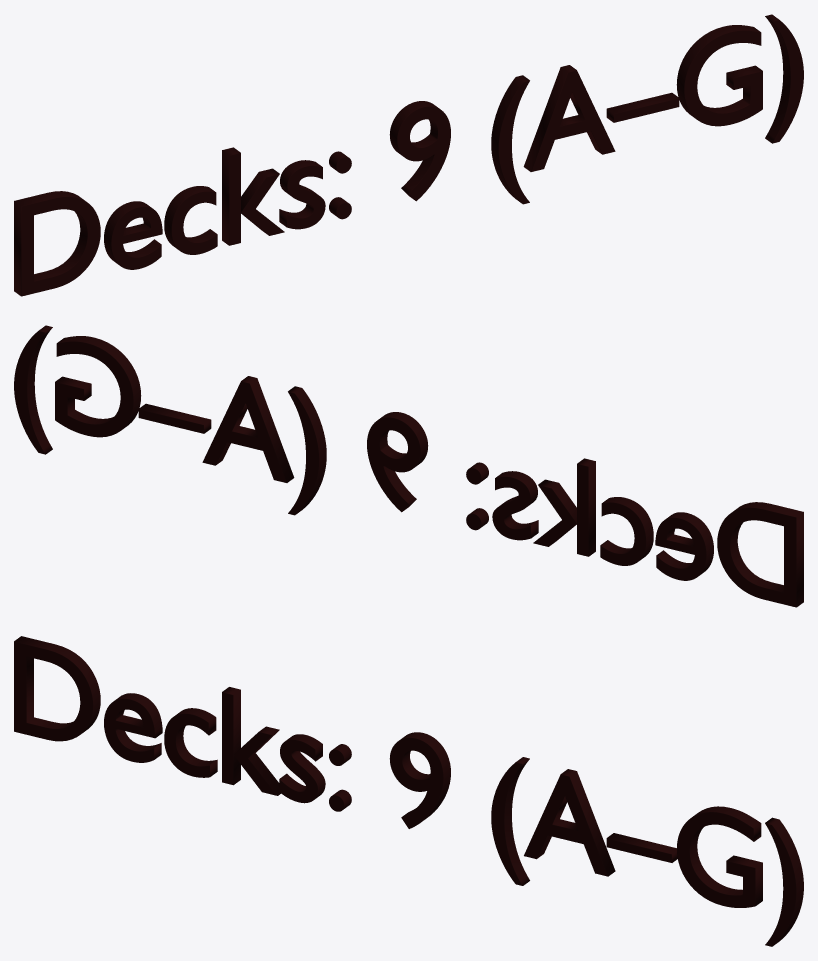
File: text_technical04.glb
3 renders of one model, top to bottom at view 1: azimuth 30°, elevation 25°; view 2: azimuth 150°, elevation 25°; view 3: azimuth 330°, elevation 25°, orthographic.
Visible parts, largest first — view 1: technical04; view 2: technical04; view 3: technical04.
Part boxes in pixels (<box>): technical04: <box>14,14,803,296</box>; technical04: <box>14,325,803,607</box>; technical04: <box>14,636,803,946</box>.
Size of the model in its own units: 107 by 15.96 by 1.79.
